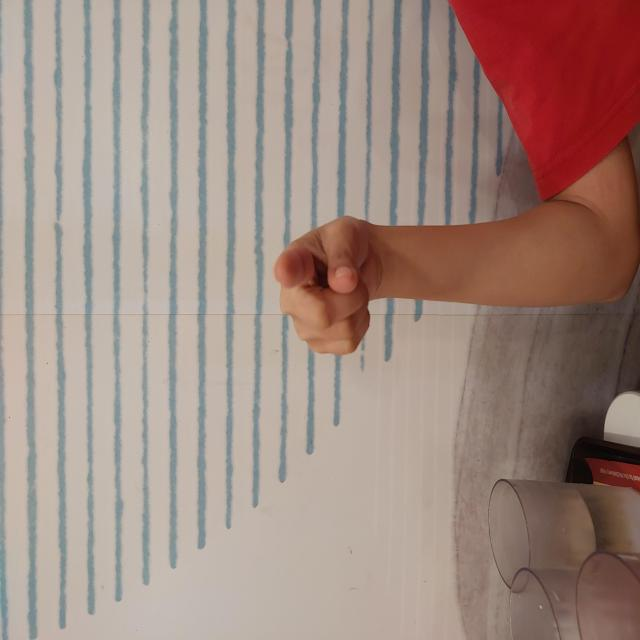Z: (283, 272, 426, 386)
